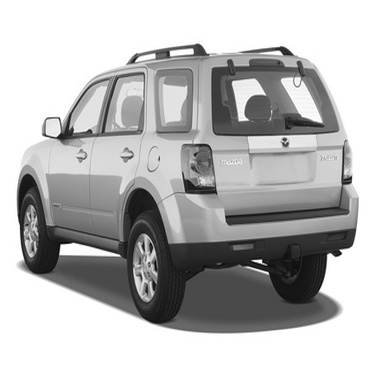car: (8, 30, 366, 331)
